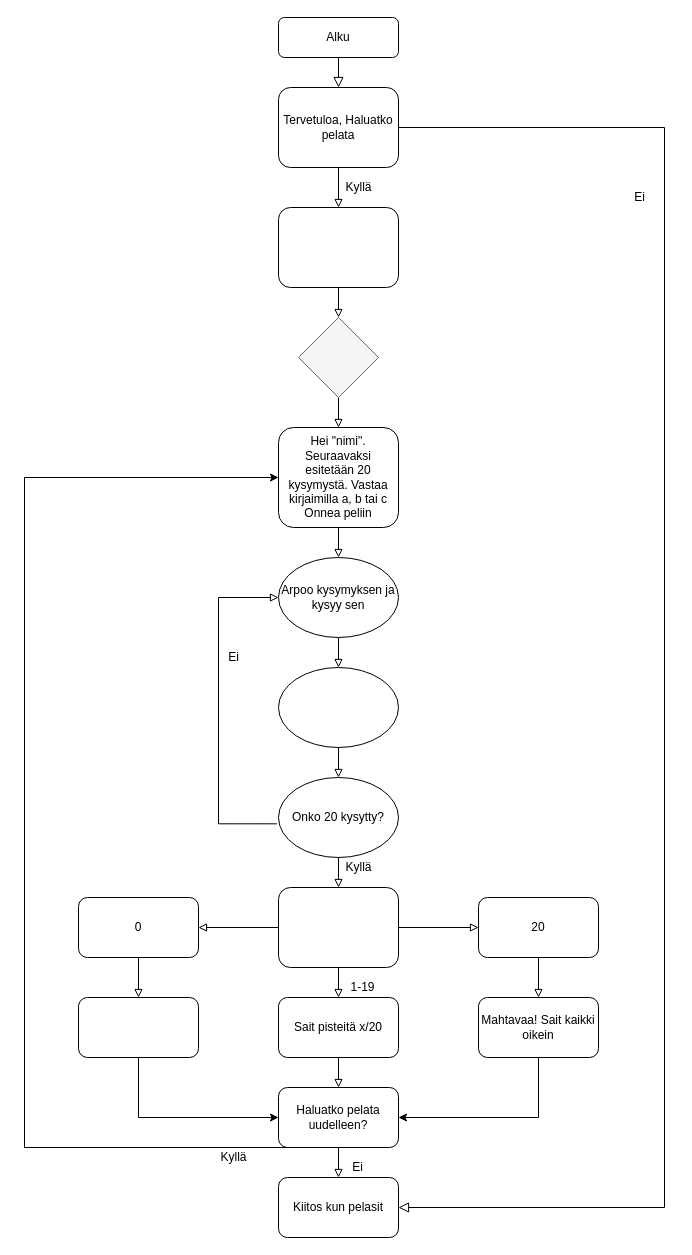
Some shapes in this 692 by 1255 pixel diagram are drawn without their labels. Here are the shapes that lost their labels. From the top down, the centre of each, then its label:
At point 338,247: "Mikä on nimesi?".
At point 338,357: "Nimi".
At point 338,707: "Tarkista onko oikein. Jos on +1".
At point 338,927: "Paljonko pisteitä".
At point 138,1027: "Et saanut yhtään oikeaa vastausta. Parempi onni ensikerralla".
